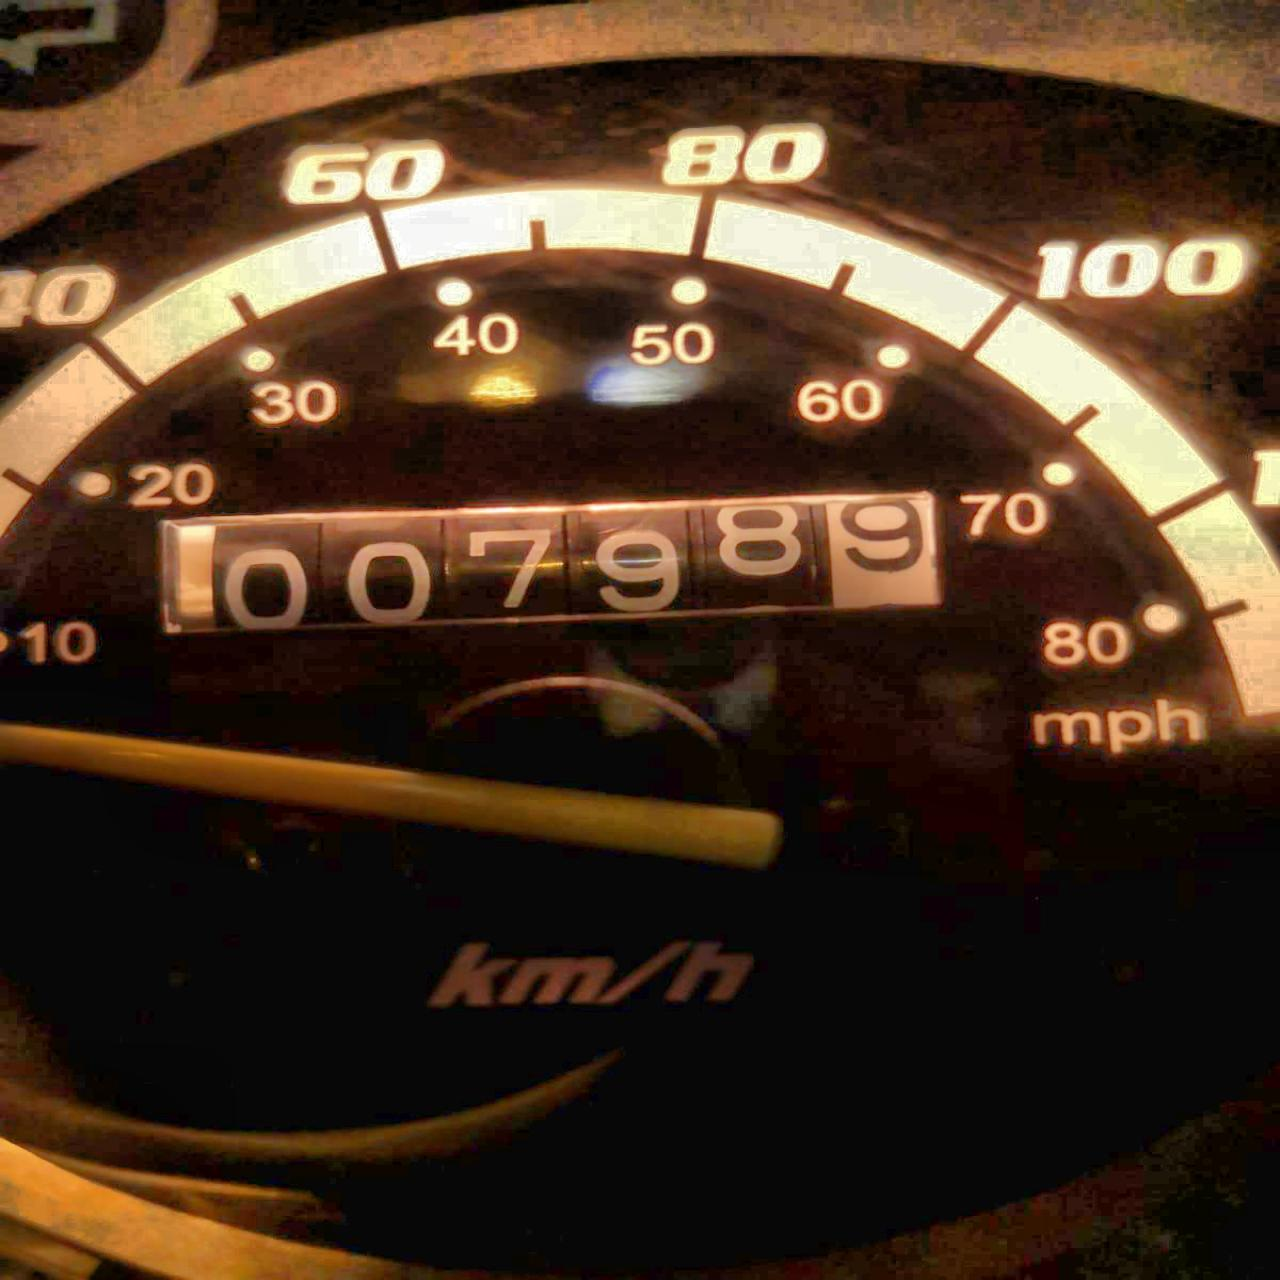0: (216, 529, 318, 633), (338, 529, 433, 621)
7: (461, 525, 559, 607)
8: (703, 497, 822, 577)
9: (835, 490, 930, 588), (583, 523, 685, 613)
odometer: (143, 482, 965, 645)
